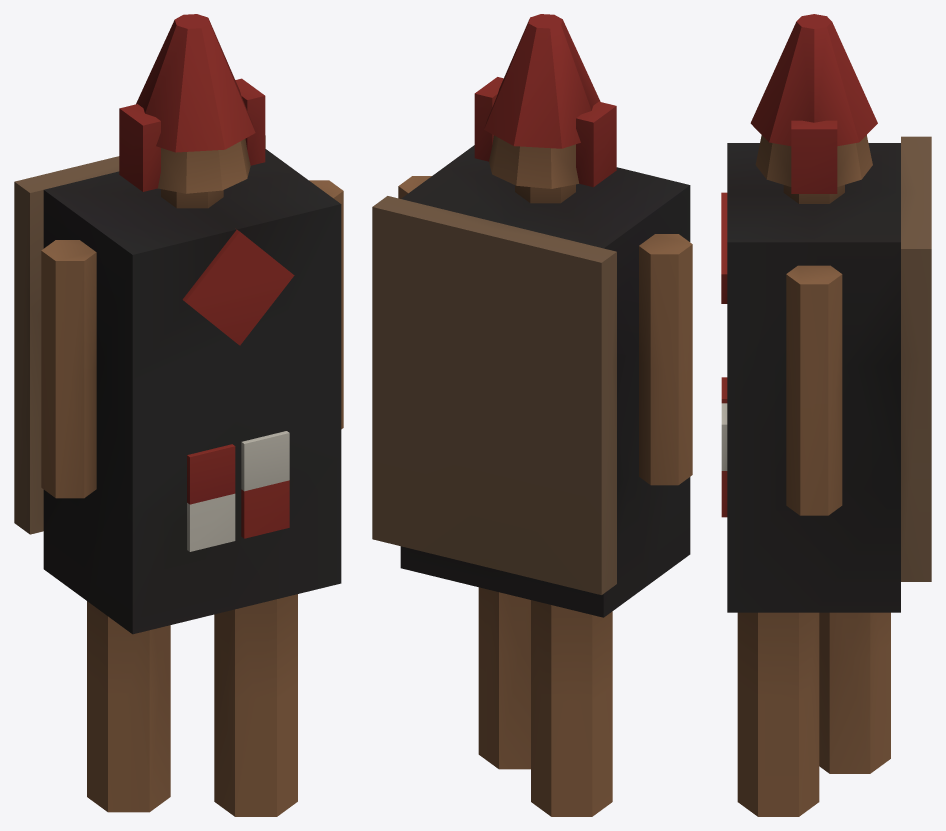
File: walker.glb
3 views of the same model, side by side, from view 1: azimuth 30°, elevation 25°; view 2: azimuth 150°, elevation 25°; view 3: azimuth 270°, elevation 25° (orthographic). The views are drawn at different scales.
Parts seen in each view (by area): view 1: base; view 2: base; view 3: base.
Part boxes in pixels (x1,y1,x2,y2): base: (14,14,343,816); base: (372,14,692,816); base: (721,14,931,816).
Size of the model in its own units: 0.6353 by 1.64 by 0.412.
